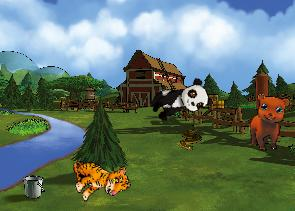bear: (249, 93, 291, 151)
panda: (146, 75, 213, 126)
tiger: (67, 147, 132, 207)
